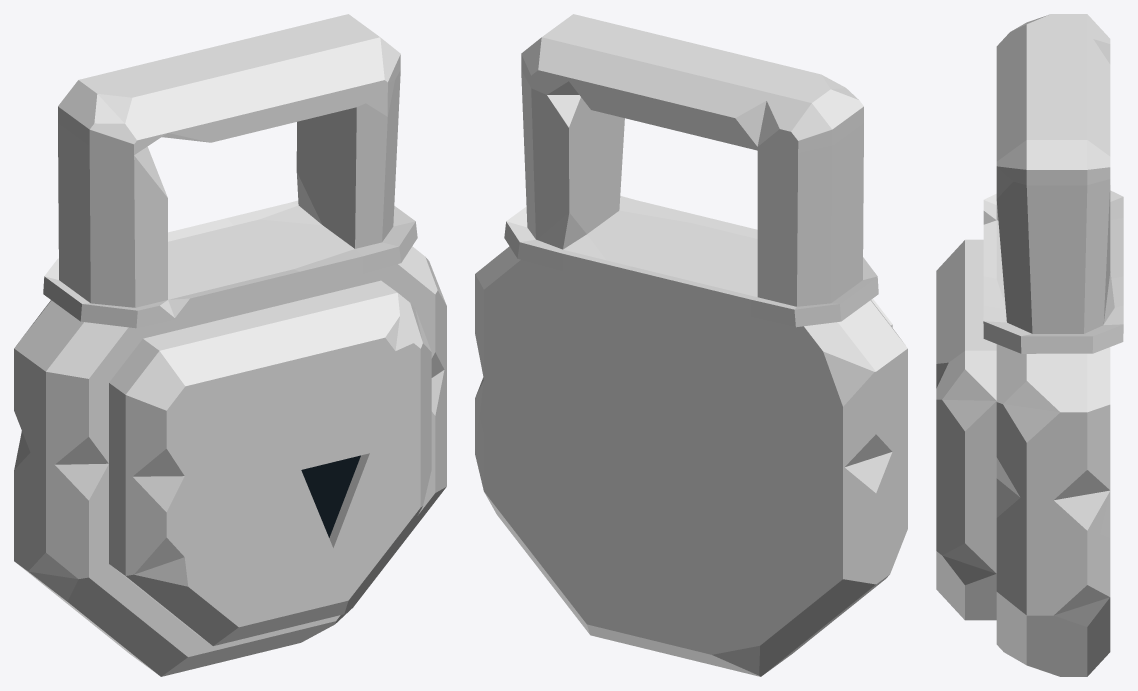
File: white_lock.glb
3 renders of one model, left to right at view 1: azimuth 30°, elevation 25°; view 2: azimuth 150°, elevation 25°; view 3: azimuth 270°, elevation 25°, orthographic. The views are drawn at different scales.
Visible parts, largest first — view 1: Circle.027; view 2: Circle.027; view 3: Circle.027.
Part boxes in pixels (x1,y1,x2,y2): Circle.027: (14,14,446,676); Circle.027: (475,14,907,676); Circle.027: (936,14,1123,676).
Size of the model in its own units: 2 by 2.79 by 0.8475.
1 material, 1 textured.
